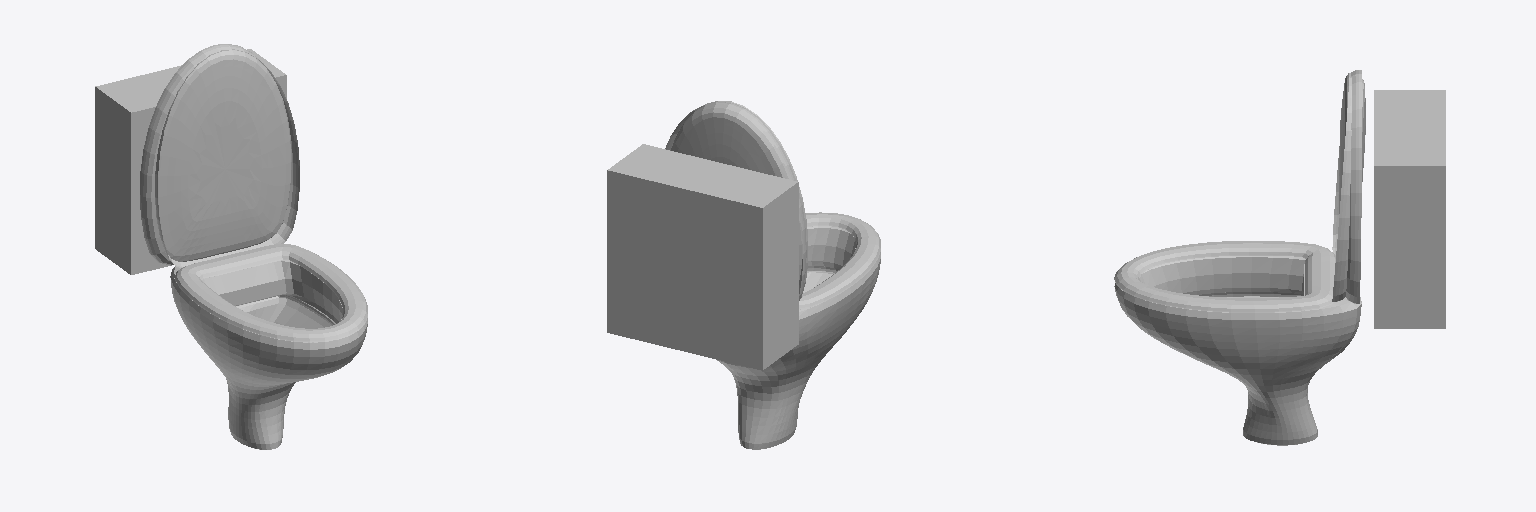
The model's file is toilet.obj.
3 renders of one model, left to right at view 1: azimuth 30°, elevation 25°; view 2: azimuth 150°, elevation 25°; view 3: azimuth 270°, elevation 25°, orthographic.
Visible parts, largest first — view 1: mesh01, toilet, cube01, wc board, mesh02; view 2: cube01, toilet, mesh02, wc board, mesh01; view 3: toilet, cube01, wc board, mesh01, mesh02.
Part boxes in pixels (x1,y1,x2,y2): mesh01: (140,44,291,265); toilet: (170,260,367,449); cube01: (95,49,286,274); wc board: (174,244,367,342); mesh02: (155,49,299,268); cube01: (607,144,798,370); toilet: (717,226,880,449); mesh02: (671,101,807,298); wc board: (799,212,880,309); mesh01: (665,102,806,300); toilet: (1114,256,1361,445); cube01: (1374,90,1445,328); wc board: (1114,241,1335,312); mesh01: (1339,70,1361,303); mesh02: (1332,73,1365,301).
Bounding box in the file's own units: 12.5 × 27.88 × 23.14.